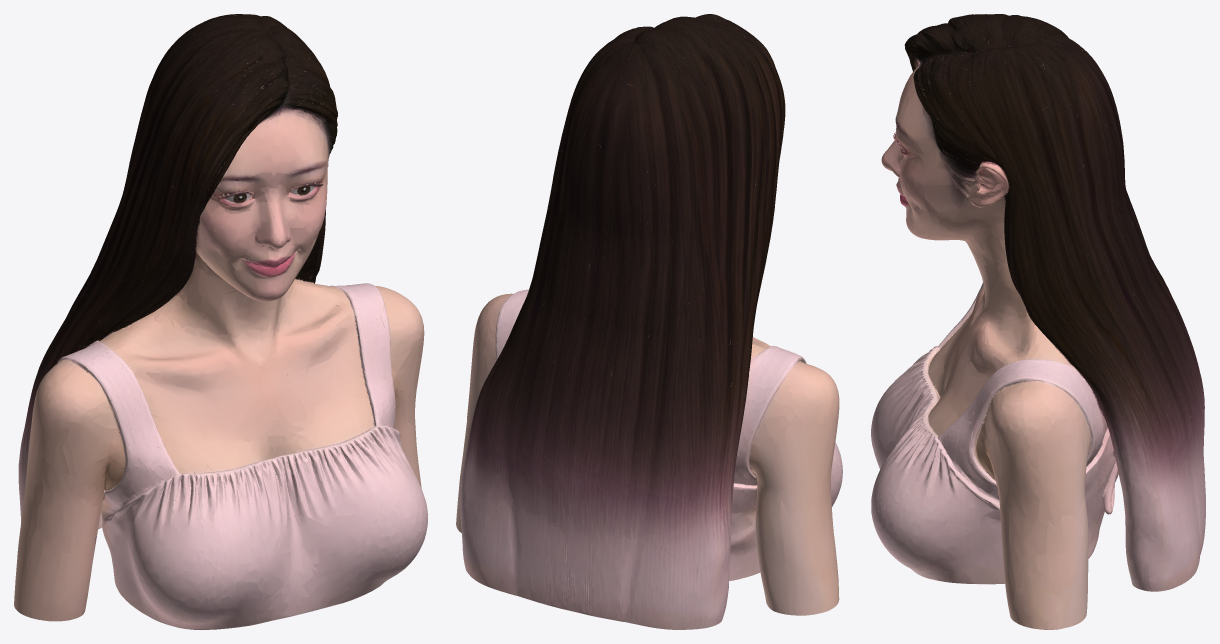
Rendered from face-portrait.glb.
3 renders of one model, left to right at view 1: azimuth 30°, elevation 25°; view 2: azimuth 150°, elevation 25°; view 3: azimuth 270°, elevation 25°, orthographic. The views are drawn at different scales.
Parts seen in each view (by area): view 1: Mesh_0; view 2: Mesh_0; view 3: Mesh_0.
Boxes of the visible parts, left/top/right/bottom form: Mesh_0: left=14, top=14, right=427, bottom=629; Mesh_0: left=456, top=14, right=842, bottom=629; Mesh_0: left=871, top=14, right=1205, bottom=629.
Size of the model in its own units: 2.63 by 3.5 by 2.05.
1 material, 1 textured.
